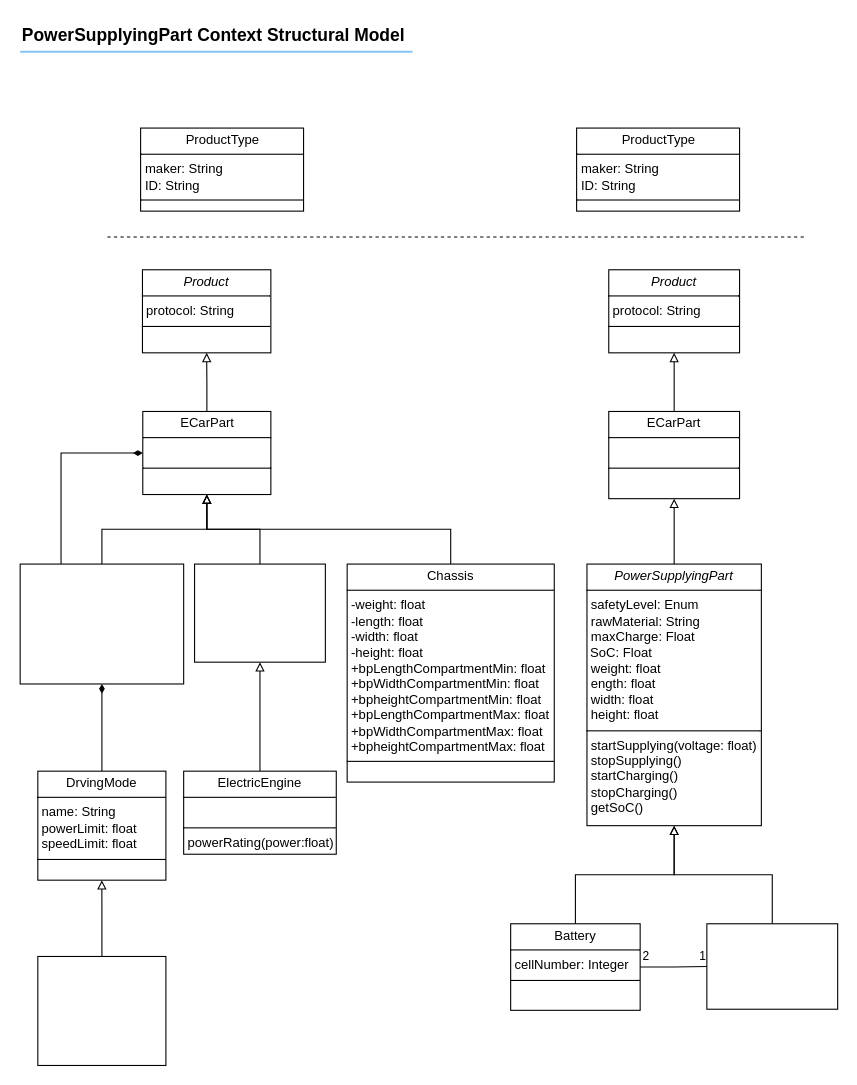
Some shapes in this 857 by 1085 pixel diagram are drawn without their labels. The shapes that lost their labels are listed below. From the top down, each one's box as (x1, y1, x2, y2) in pixels, then its label:
(19, 563, 184, 684): VCU drivingMode: DrivingMode managePower()
(193, 563, 325, 662): Engine start() stop()
(706, 923, 838, 1009): BatteryPack maxVoltage: float
(37, 955, 166, 1065): DrvingModeEnum ECO NORMAL SPORT
